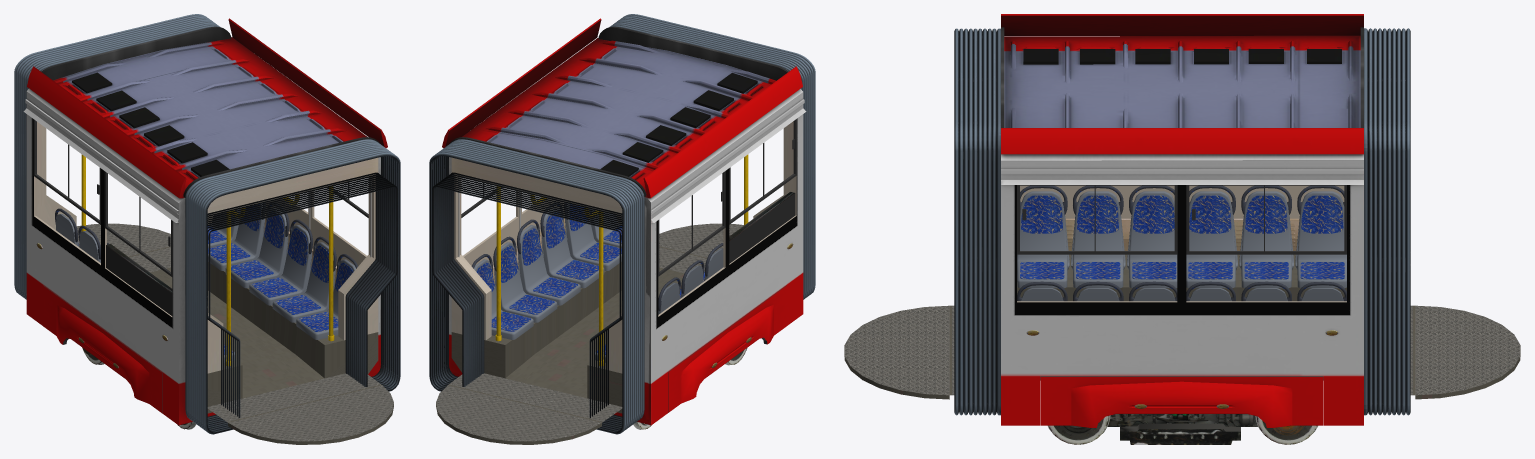
File: ktm31b.obj
3 renders of one model, left to right at view 1: azimuth 30°, elevation 25°; view 2: azimuth 150°, elevation 25°; view 3: azimuth 270°, elevation 25°, orthographic. The views are drawn at different scales.
Parts seen in each view (by area): view 1: EXT, INT, DISP; view 2: EXT, INT, DISP; view 3: EXT, INT.
Part boxes in pixels (box(x1,y1,x2,y2)): EXT: box(14, 14, 400, 434); INT: box(34, 104, 397, 444); DISP: box(106, 245, 172, 315); EXT: box(429, 14, 815, 434); INT: box(432, 86, 796, 444); DISP: box(729, 193, 795, 263); EXT: box(954, 14, 1440, 444); INT: box(844, 185, 1520, 399).
Size of the model in its own units: 2.61 by 3.21 by 5.87.
Materials: 32 (26 with a texture image).
